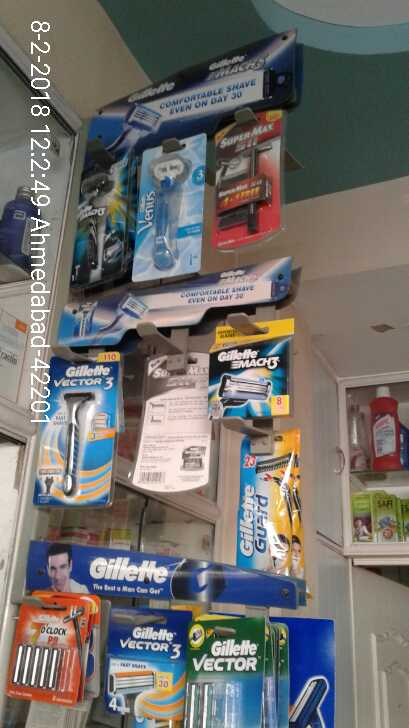beauty: (42, 360, 116, 506), (237, 436, 309, 579), (188, 607, 273, 728), (104, 594, 180, 728), (135, 146, 202, 279), (66, 158, 128, 289), (209, 332, 301, 417)
